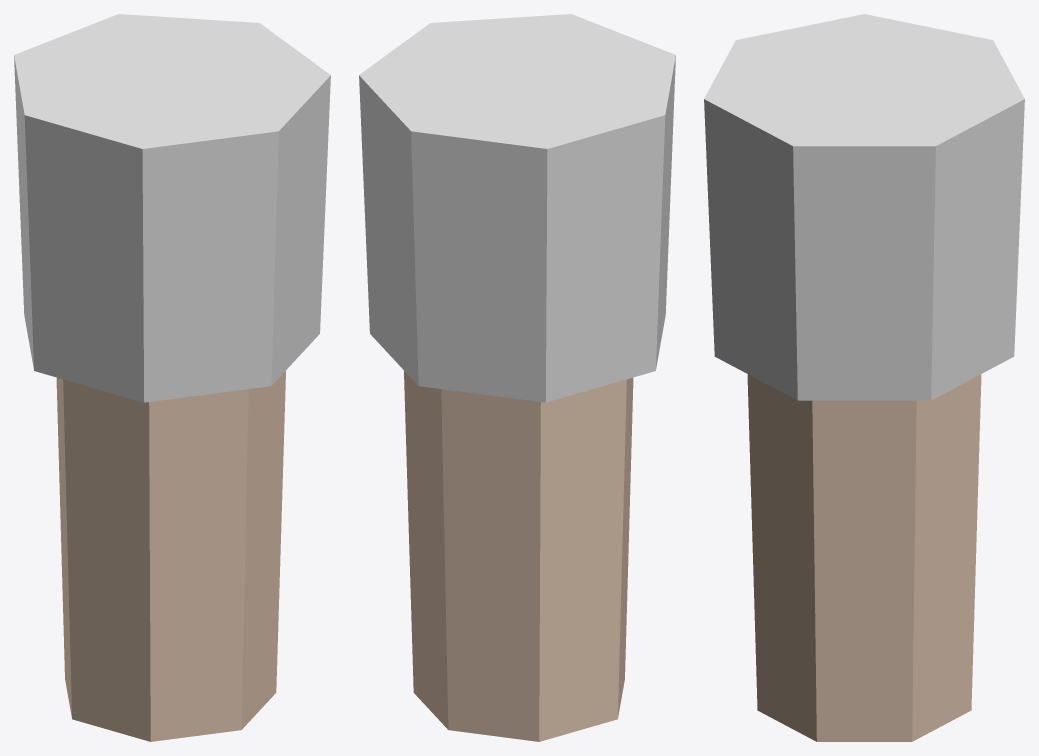
The model's file is CharUpperArm.fbx.
3 views of the same model, side by side, from view 1: azimuth 30°, elevation 25°; view 2: azimuth 150°, elevation 25°; view 3: azimuth 270°, elevation 25° (orthographic).
Visible parts, largest first — view 1: CharUpperArm; view 2: CharUpperArm; view 3: CharUpperArm.
Part boxes in pixels (x1=…): CharUpperArm: x1=14, y1=14, x2=330, y2=741; CharUpperArm: x1=359, y1=14, x2=675, y2=741; CharUpperArm: x1=704, y1=14, x2=1024, y2=741.
Bounding box in the file's own units: 0.1426 × 0.31 × 0.1462.
